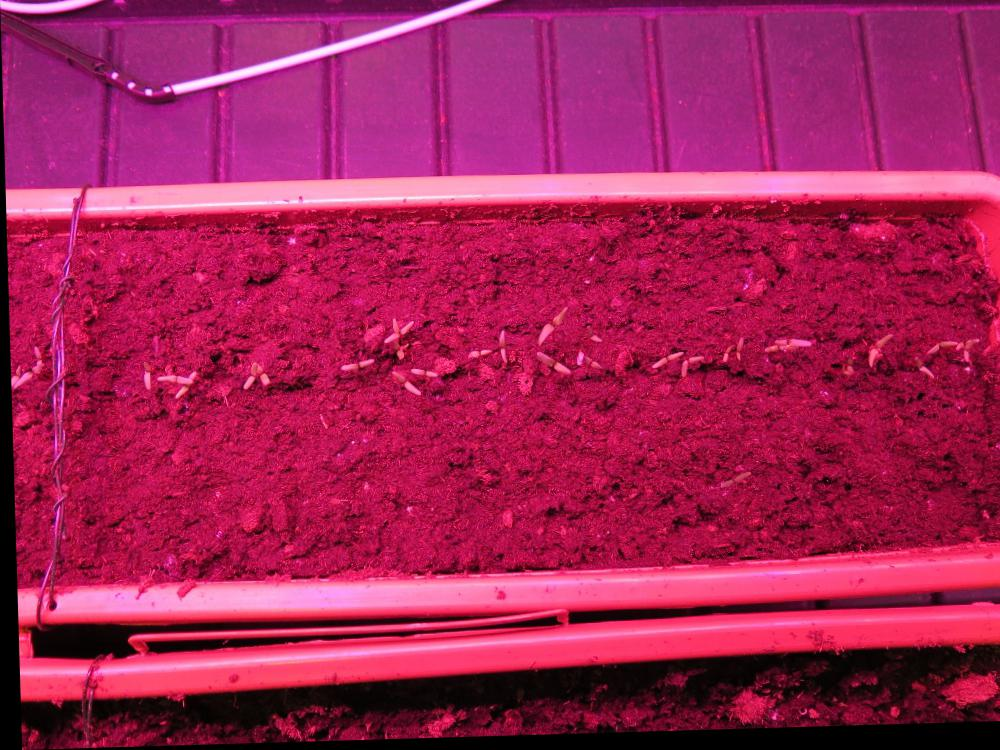crop: (532, 307, 565, 350), (531, 352, 568, 380), (677, 358, 702, 382), (336, 358, 372, 374), (910, 361, 931, 385), (493, 329, 505, 369), (406, 367, 435, 381), (462, 349, 490, 362), (137, 360, 148, 390), (731, 340, 742, 365), (718, 348, 730, 367)
